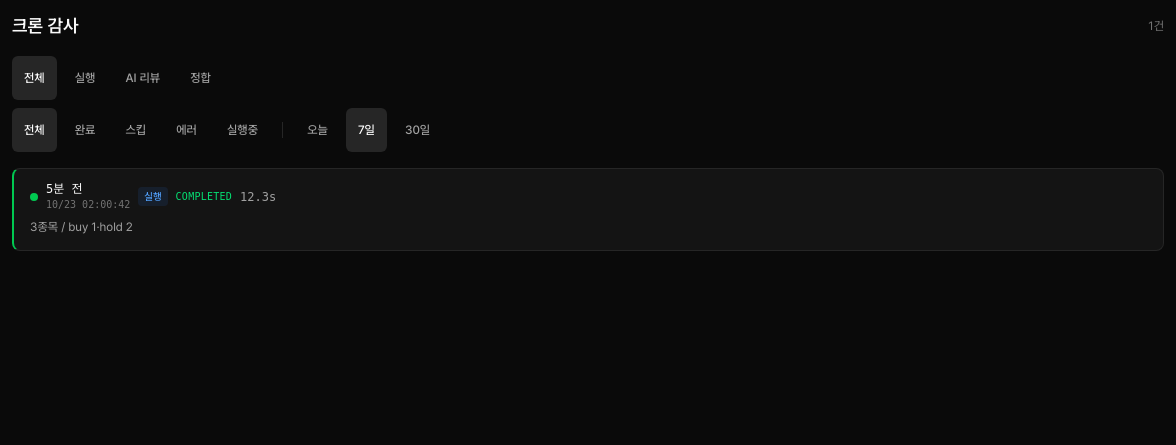
Test: CronRunsPage › falls back to raw JSON for a partial components object (missing keys)
Expected: the text "COMPLETED" is shown, [176,189,232,204]
Click the button "5분 전 10/23 02:00:42 실행 COMPLETED 12.3s 3종목 / buy 1·hold 2" at (64,189), box [14,169,1163,250]
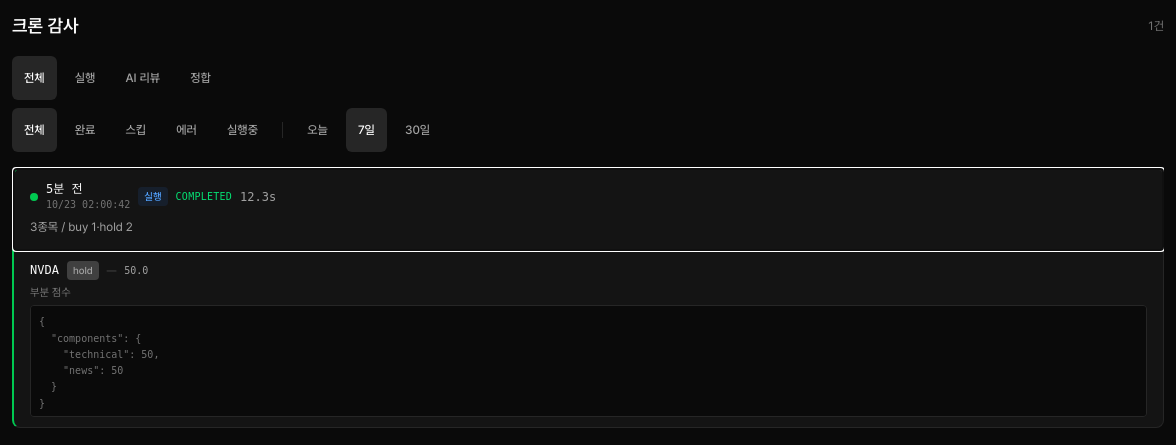
Expected: the text "NVDA" is shown, [30,262,59,278]
Expected: the text "{ \"components\": { \"technical\": 50, \"news\": 50 } }" is shown, [30,305,1147,417]
Expected: the text "{ \"components\": { \"technical\": 50, \"news\": 50 } }" shows "\"technical\": 50", [39,316,159,409]
